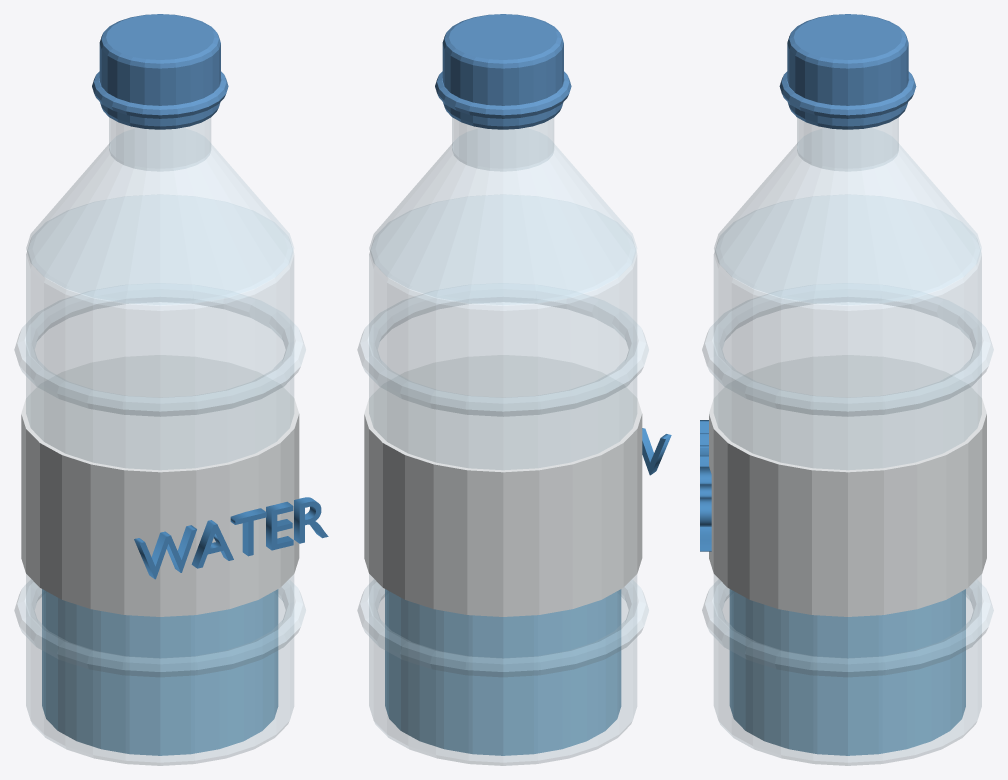
Rendered from water_bottle.glb.
3 renders of one model, left to right at view 1: azimuth 30°, elevation 25°; view 2: azimuth 150°, elevation 25°; view 3: azimuth 270°, elevation 25°, orthographic.
Visible parts, largest first — view 1: Bottle_Body, Bottle_Label, Bottle_Shoulder, Bottle_Water_Fill, Bottle_Cap, Body_Rib_High, Body_Rib_Low, Label_Word, Bottle_Neck, Cap_Rib; view 2: Bottle_Body, Bottle_Label, Bottle_Shoulder, Bottle_Water_Fill, Bottle_Cap, Body_Rib_High, Body_Rib_Low, Bottle_Neck, Cap_Rib, Label_Word; view 3: Bottle_Body, Bottle_Label, Bottle_Shoulder, Bottle_Water_Fill, Bottle_Cap, Body_Rib_High, Body_Rib_Low, Bottle_Neck, Cap_Rib, Label_Word.
Part boxes in pixels (x1,y1,x2,y2): Bottle_Body: (26,195,293,765); Bottle_Label: (21,355,299,616); Bottle_Shoulder: (26,128,293,304); Bottle_Water_Fill: (42,589,278,755); Bottle_Cap: (99,14,220,129); Body_Rib_High: (14,294,305,416); Body_Rib_Low: (14,579,305,676); Label_Word: (134,497,328,579); Bottle_Neck: (109,117,210,170); Cap_Rib: (92,71,228,118); Bottle_Body: (369,195,636,765); Bottle_Label: (364,355,642,616); Bottle_Shoulder: (369,128,636,304); Bottle_Water_Fill: (385,589,621,755); Bottle_Cap: (442,14,563,129); Body_Rib_High: (357,294,648,416); Body_Rib_Low: (357,579,648,676); Bottle_Neck: (452,117,553,170); Cap_Rib: (435,71,571,118); Label_Word: (642,428,671,475); Bottle_Body: (714,195,981,765); Bottle_Label: (709,355,986,616); Bottle_Shoulder: (714,128,981,304); Bottle_Water_Fill: (729,589,965,755); Bottle_Cap: (787,14,908,129); Body_Rib_High: (702,294,993,416); Body_Rib_Low: (702,580,993,676); Bottle_Neck: (797,118,898,170); Cap_Rib: (779,71,916,118); Label_Word: (700,420,711,551).
Bounding box in the file's own units: 0.0914 × 0.233 × 0.092.
